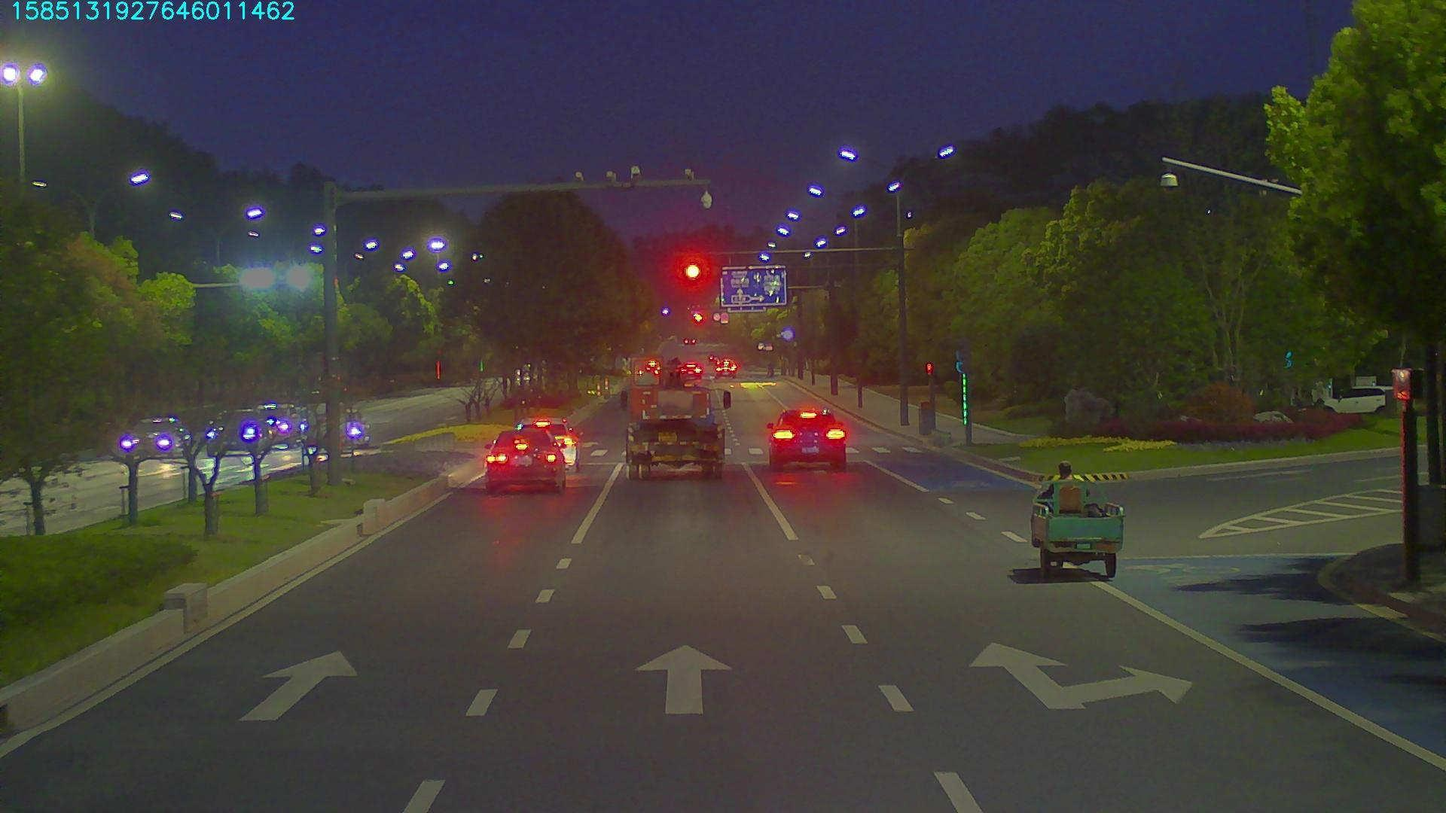red: (680, 257, 709, 284)
